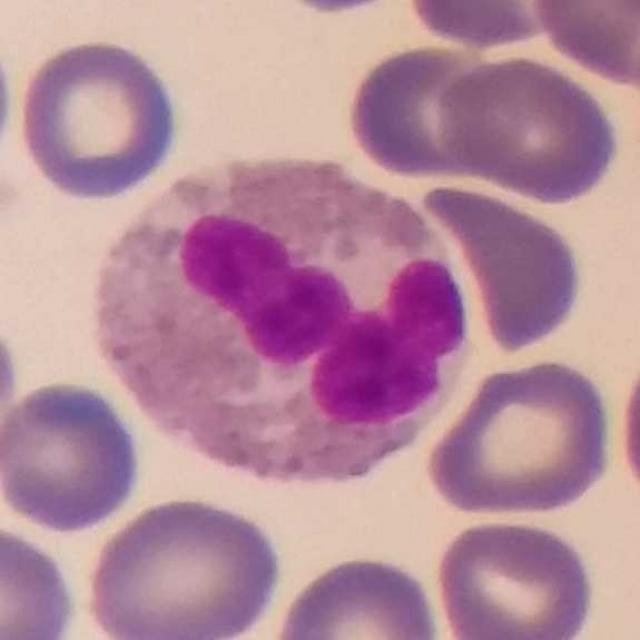RBC: (98, 153, 474, 484), (421, 355, 619, 521), (80, 491, 287, 640), (416, 180, 589, 358), (12, 33, 186, 205), (433, 51, 624, 207), (0, 376, 147, 536), (341, 40, 504, 184), (431, 514, 600, 640), (268, 548, 445, 640), (527, 0, 640, 89), (0, 518, 82, 640), (403, 0, 582, 52), (612, 330, 640, 523), (0, 306, 22, 458), (0, 36, 17, 172), (286, 0, 394, 19)
